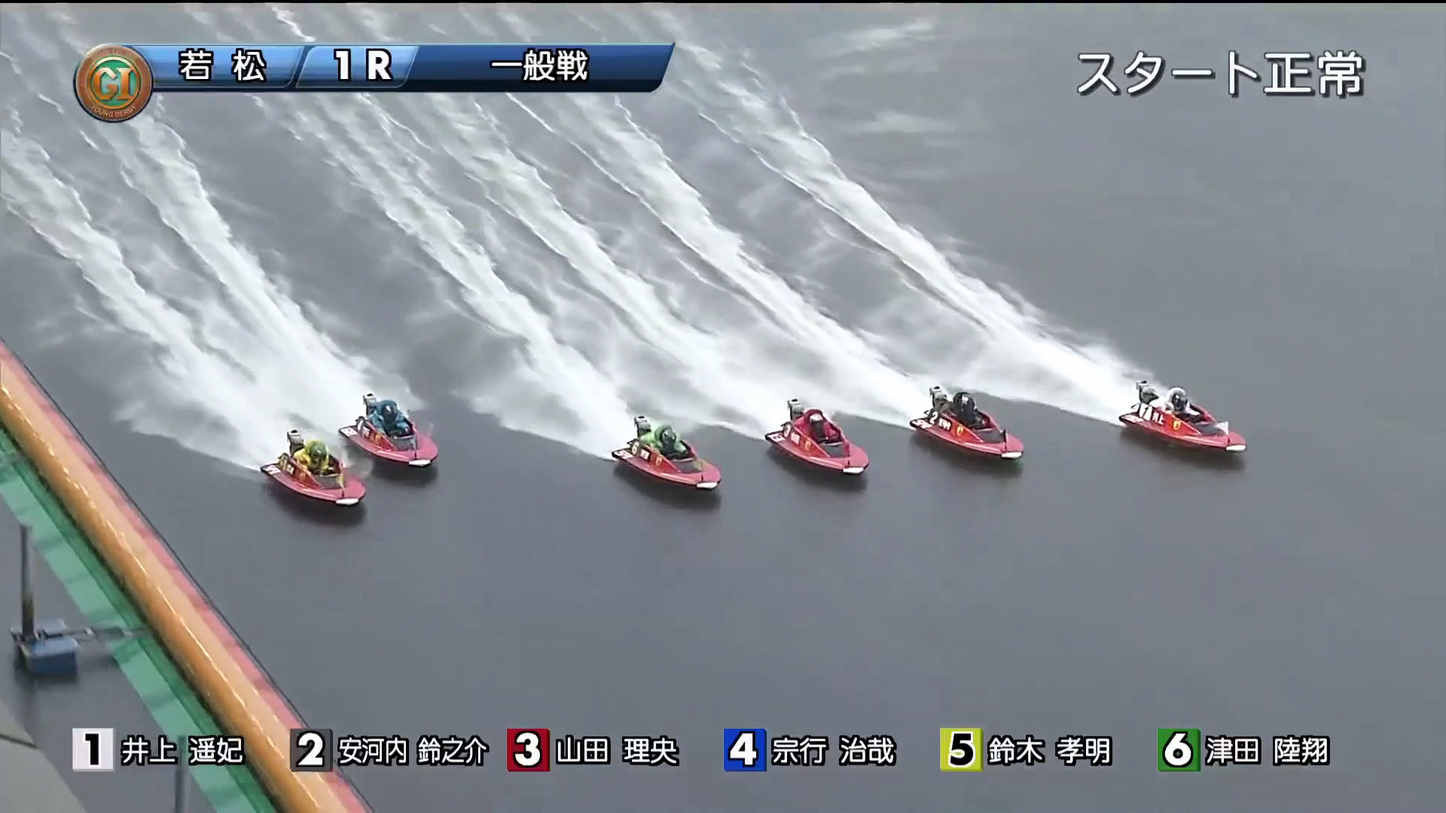１号艇: (1137, 372, 1247, 419)
２号艇: (921, 385, 1029, 433)
３号艇: (768, 425, 883, 467)
４号艇: (627, 436, 739, 490)
５号艇: (340, 410, 462, 465)
６号艇: (292, 472, 391, 529)
